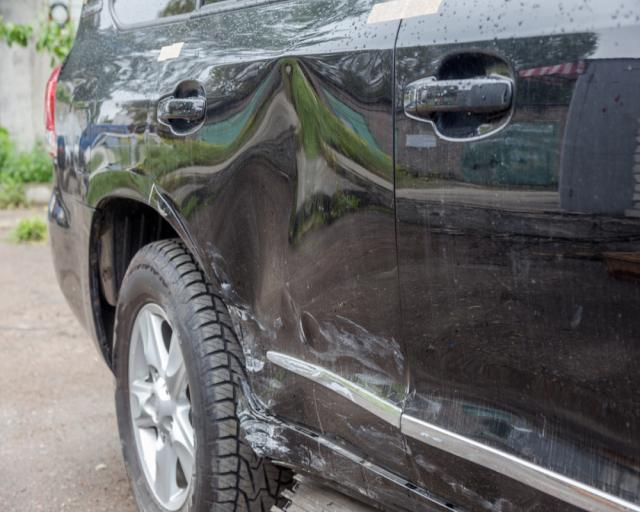dent: (206, 58, 333, 357)
scratch: (292, 308, 411, 404)
